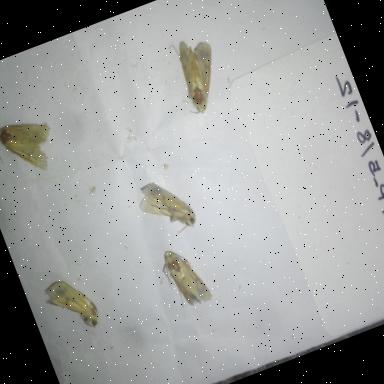abw: (159, 26, 237, 124), (128, 161, 208, 249), (0, 85, 64, 186), (36, 264, 106, 344), (154, 238, 218, 318)
